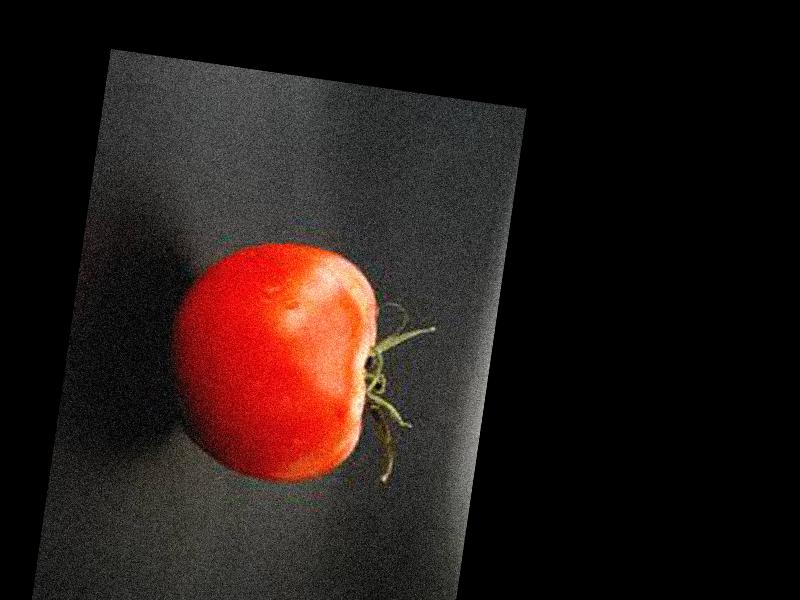Tomato: (155, 226, 387, 490)
